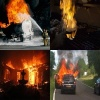fire: (2, 51, 48, 89), (0, 0, 30, 28), (60, 0, 78, 40), (56, 59, 79, 86)
